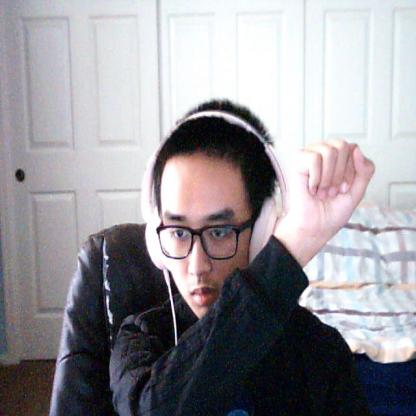fist: (286, 136, 378, 236)
